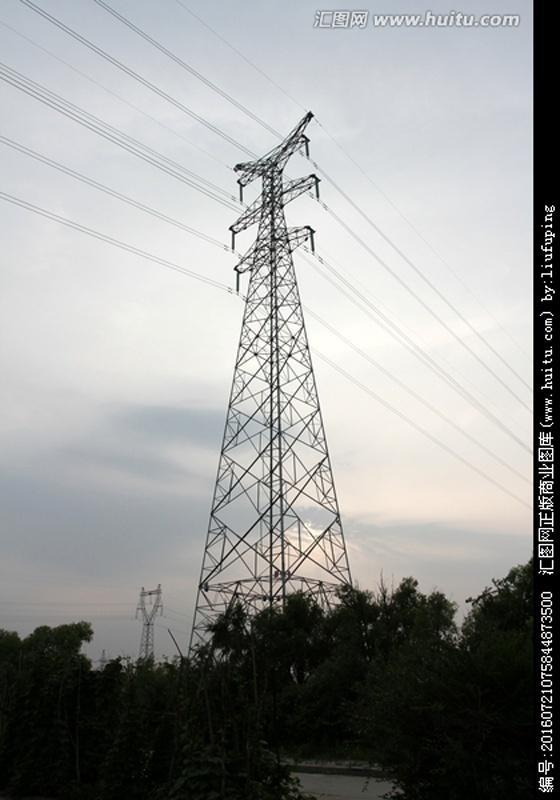power_tower: (184, 110, 358, 673), (135, 584, 163, 672)
